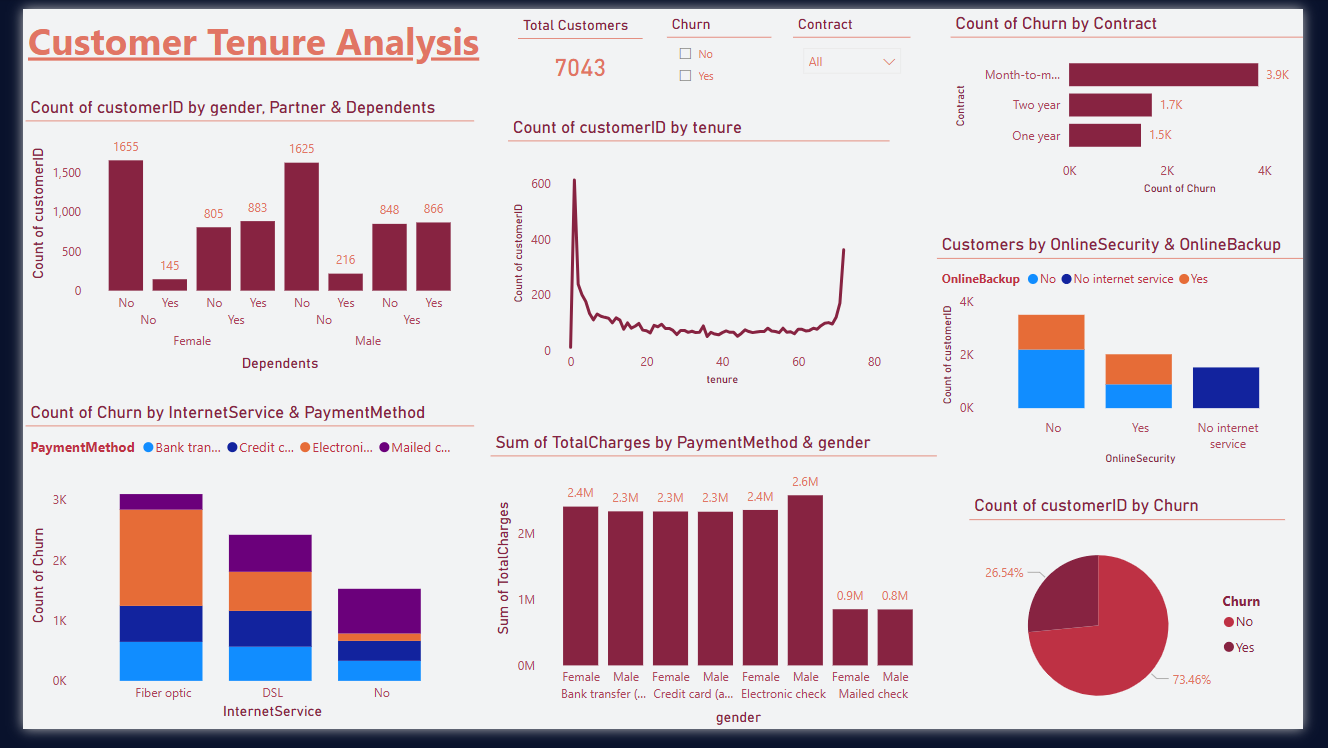

The dashboard page shown, as its layout file describes it:
{"tool":"powerbi","page":{"name":"Page 1","canvas":[1280,720],"ordinal":0},"visuals":[{"type":"pieChart","fields":{"Category":["Telco_Customer_Churn_Dataset  (2).Churn"],"Y":["CountNonNull(Telco_Customer_Churn_Dataset  (2).customerID)"]},"box":[946.2,486.2,316.2,233.8],"z":0},{"type":"columnChart","title":"Count of customerID by gender, Partner & Dependents","fields":{"Y":["CountNonNull(Telco_Customer_Churn_Dataset  (2).customerID)"],"Category":["Telco_Customer_Churn_Dataset  (2).gender","Telco_Customer_Churn_Dataset  (2).Partner","Telco_Customer_Churn_Dataset  (2).Dependents"]},"box":[2.5,87.5,448.8,278.8],"z":1000},{"type":"lineChart","fields":{"Y":["CountNonNull(Telco_Customer_Churn_Dataset  (2).customerID)"],"Category":["Telco_Customer_Churn_Dataset  (2).tenure"]},"box":[485,107.5,381.2,272.5],"z":2000},{"type":"columnChart","title":"Count of Churn by InternetService & PaymentMethod","fields":{"Category":["Telco_Customer_Churn_Dataset  (2).InternetService"],"Y":["CountNonNull(Telco_Customer_Churn_Dataset  (2).Churn)"],"Series":["Telco_Customer_Churn_Dataset  (2).PaymentMethod"]},"box":[2.5,392.5,448.8,322.5],"z":3000},{"type":"barChart","fields":{"Y":["CountNonNull(Telco_Customer_Churn_Dataset  (2).Churn)"],"Category":["Telco_Customer_Churn_Dataset  (2).Contract"]},"box":[927.5,3.8,352.5,185],"z":4000},{"type":"columnChart","title":"Sum of TotalCharges by PaymentMethod & gender","fields":{"Y":["Sum(Telco_Customer_Churn_Dataset  (2).TotalCharges)"],"Category":["Telco_Customer_Churn_Dataset  (2).PaymentMethod","Telco_Customer_Churn_Dataset  (2).gender"]},"box":[467.5,422.5,446.2,297.5],"z":5000},{"type":"slicer","title":"Churn","fields":{"Values":["Telco_Customer_Churn_Dataset  (2).Churn"]},"box":[792.5,6.2,103.8,78.8],"z":6000},{"type":"textbox","box":[0,1.2,502.5,62.5],"z":7000},{"type":"card","title":"Total Customers","fields":{"Values":["Count(Telco_Customer_Churn_Dataset  (2).customerID)"]},"box":[495.4,7.8,124.7,76.8],"z":9000},{"type":"columnChart","title":" Customers by OnlineSecurity & OnlineBackup","fields":{"Y":["CountNonNull(Telco_Customer_Churn_Dataset  (2).customerID)"],"Category":["Telco_Customer_Churn_Dataset  (2).OnlineSecurity"],"Series":["Telco_Customer_Churn_Dataset  (2).OnlineBackup"]},"box":[913.8,225,366.2,233.8],"z":10000},{"type":"card","title":"Total Charges","fields":{"Values":["Sum(Telco_Customer_Churn_Dataset  (2).TotalCharges)"]},"box":[642.5,7.5,125,75],"z":10001}]}

Visuals, with their boxes in screenshot pixels (x1, y1, x2, y2), scaled from the page's 1280x720 canvas onto the 1328x748 screenshot:
pieChart - Telco_Customer_Churn_Dataset  (2).Churn x CountNonNull(Telco_Customer_Churn_Dataset  (2).customerID): 982:505:1310:747
"Count of customerID by gender, Partner & Dependents" columnChart: 3:91:468:381
lineChart - CountNonNull(Telco_Customer_Churn_Dataset  (2).customerID) x Telco_Customer_Churn_Dataset  (2).tenure: 503:112:899:395
"Count of Churn by InternetService & PaymentMethod" columnChart: 3:408:468:743
barChart - CountNonNull(Telco_Customer_Churn_Dataset  (2).Churn) x Telco_Customer_Churn_Dataset  (2).Contract: 962:4:1327:196
"Sum of TotalCharges by PaymentMethod & gender" columnChart: 485:439:948:747
"Churn" slicer: 822:6:930:88
textbox: 0:1:521:66
"Total Customers" card: 514:8:643:88
" Customers by OnlineSecurity & OnlineBackup" columnChart: 948:234:1327:477
"Total Charges" card: 667:8:796:86
